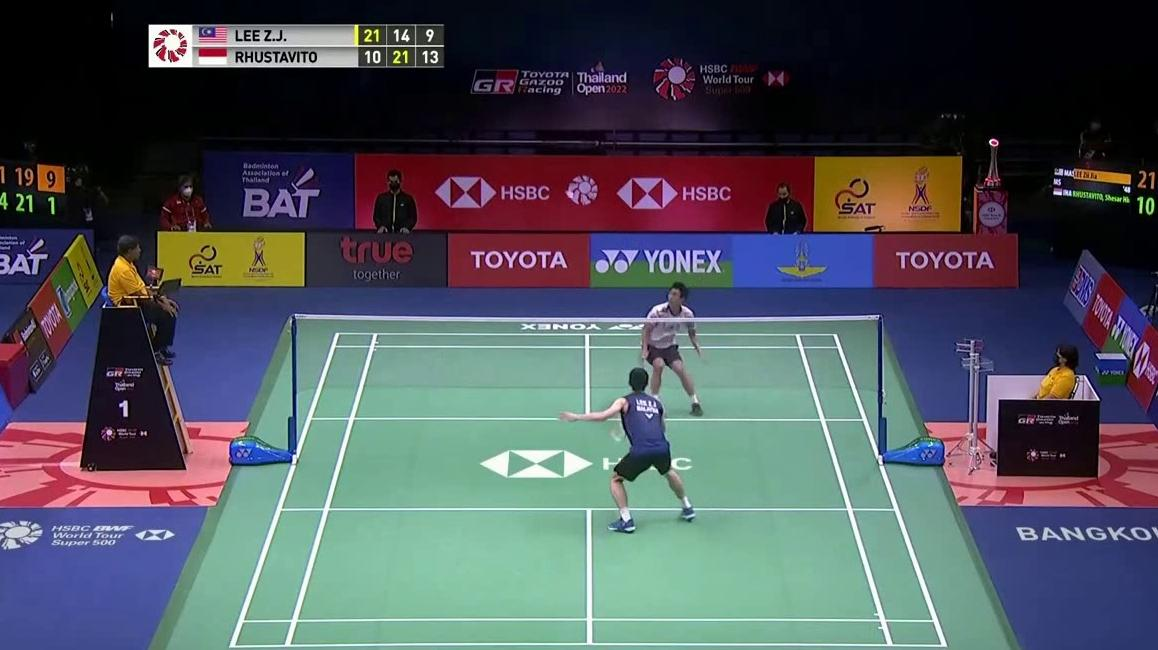racket: (608, 416, 627, 444), (640, 352, 648, 369)
shuttle: (565, 189, 575, 199)
